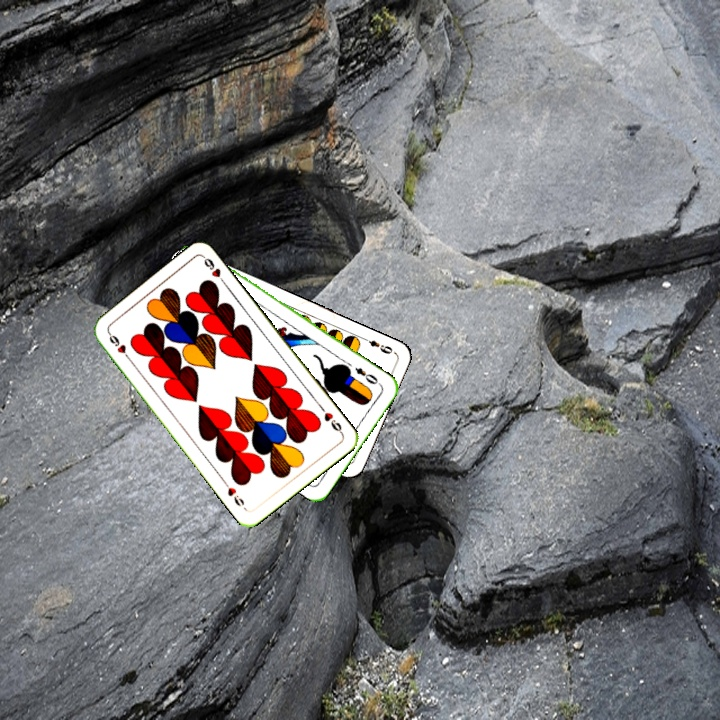E9: (358, 333, 395, 357)
EO: (351, 363, 384, 388)
H9: (104, 328, 134, 363), (316, 402, 345, 437)
